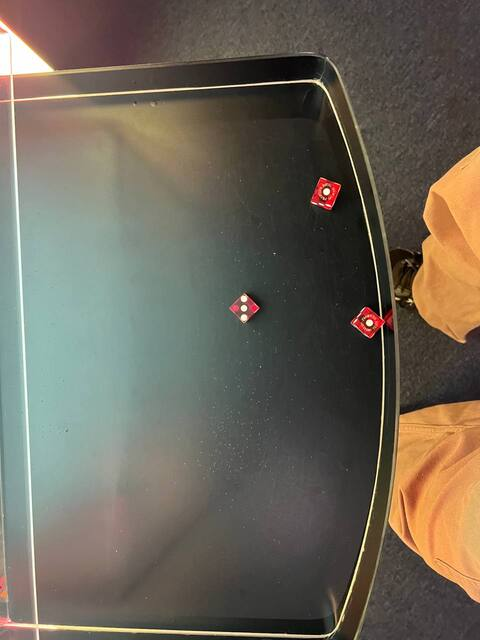one: (209, 174, 244, 207), (353, 309, 384, 340)
three: (226, 290, 263, 327)
